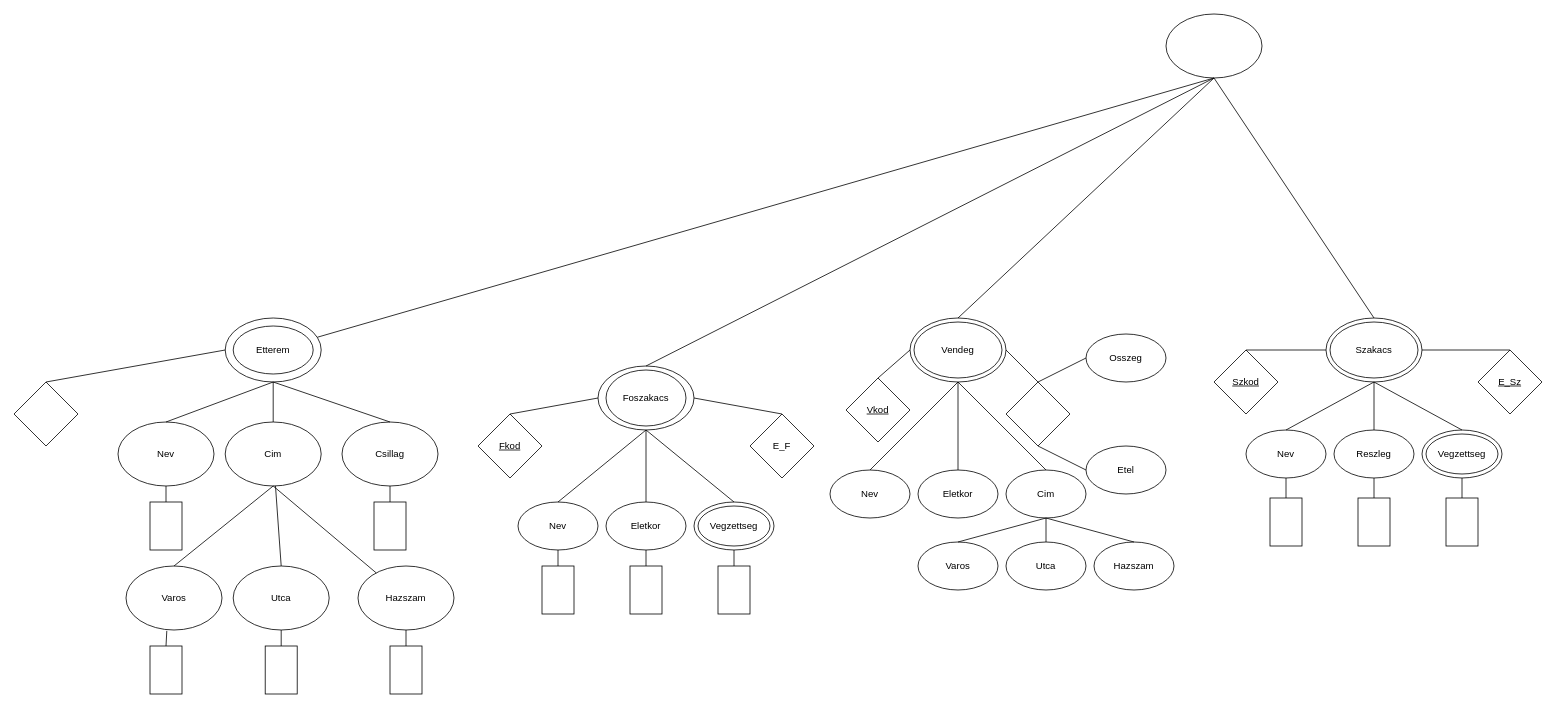
Some shapes in this 1556 by 708 pixel diagram are drawn without their labels. Each missing label, with the centre of its shape:
"Ekod" goes at (x=45, y=413).
"Rendeles" goes at (x=1037, y=413).
"Vendeglatas" goes at (x=1213, y=45).
